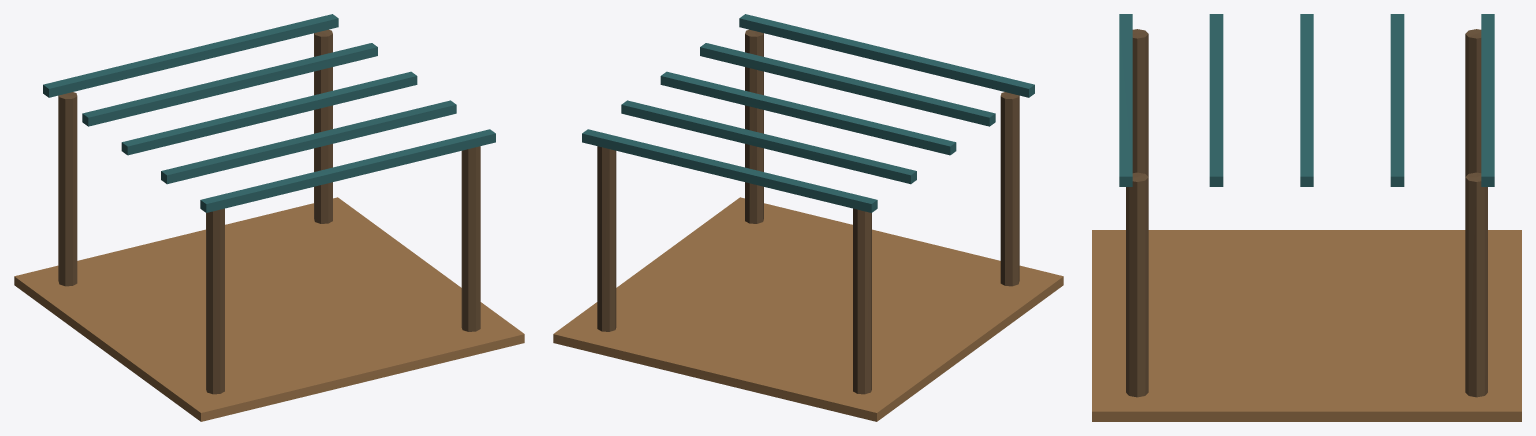
The model's file is Pergola.glb.
3 views of the same model, side by side, from view 1: azimuth 30°, elevation 25°; view 2: azimuth 150°, elevation 25°; view 3: azimuth 270°, elevation 25° (orthographic). The views are drawn at different scales.
Parts seen in each view (by area): view 1: pergola-static-pergola-earth, pergola-static-pergola-teal, pergola-static-pergola-timber; view 2: pergola-static-pergola-earth, pergola-static-pergola-teal, pergola-static-pergola-timber; view 3: pergola-static-pergola-earth, pergola-static-pergola-timber, pergola-static-pergola-teal.
Boxes of the visible parts, x1,y1,x2,y2 form: pergola-static-pergola-earth: [14, 197, 524, 421]; pergola-static-pergola-teal: [43, 14, 495, 212]; pergola-static-pergola-timber: [58, 29, 480, 394]; pergola-static-pergola-earth: [553, 197, 1063, 421]; pergola-static-pergola-teal: [582, 14, 1034, 212]; pergola-static-pergola-timber: [597, 29, 1019, 394]; pergola-static-pergola-earth: [1092, 230, 1521, 421]; pergola-static-pergola-timber: [1126, 29, 1487, 397]; pergola-static-pergola-teal: [1119, 14, 1494, 186].
Size of the model in its own units: 3.8 by 2.3 by 3.8.
